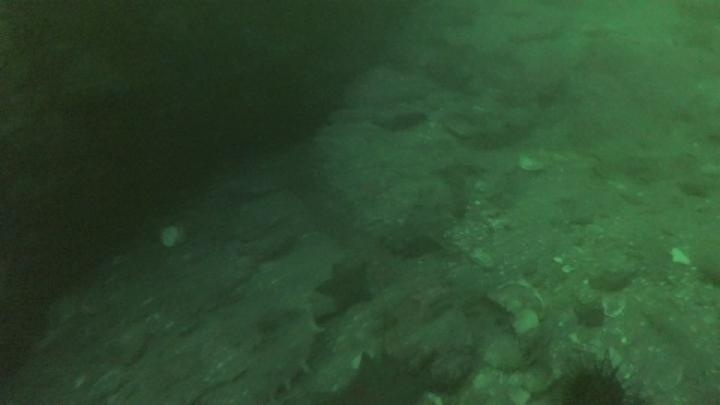echinus: (552, 352, 640, 404)
holothurian: (245, 303, 326, 404), (379, 181, 459, 259)
starfish: (332, 347, 436, 404), (315, 257, 377, 315)
